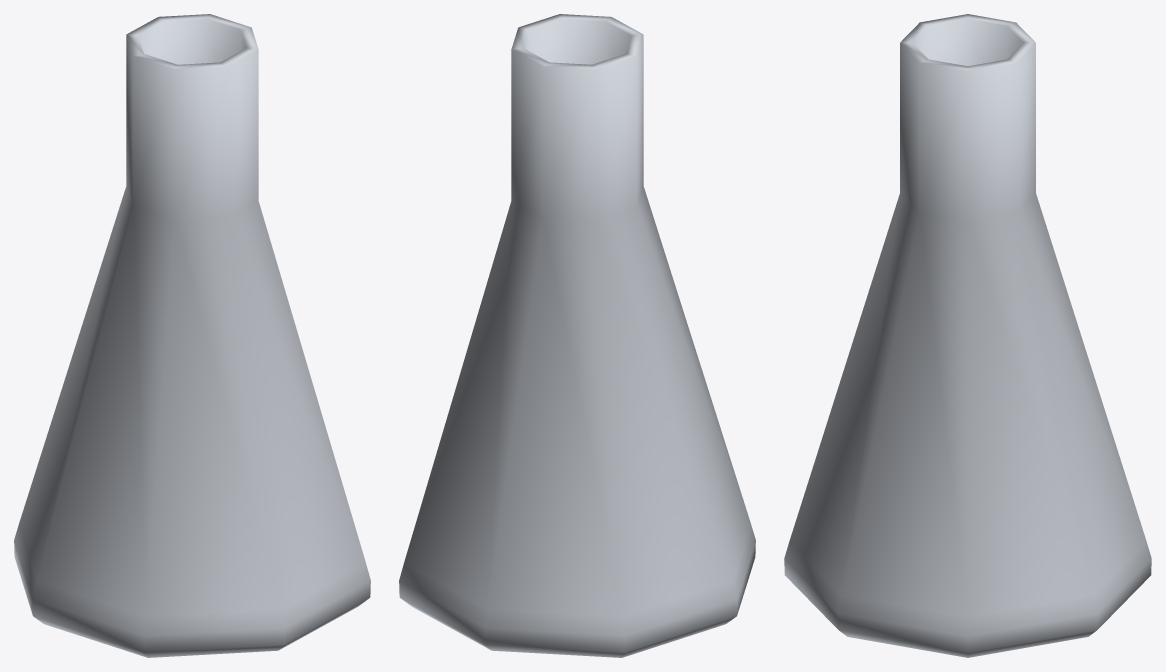
Rendered from bottle_glassware_erlenmeyer_flask_medium.glb.
3 views of the same model, side by side, from view 1: azimuth 30°, elevation 25°; view 2: azimuth 150°, elevation 25°; view 3: azimuth 270°, elevation 25° (orthographic).
Parts seen in each view (by area): view 1: bottle_glassware_erlenmeyer_flask_medium; view 2: bottle_glassware_erlenmeyer_flask_medium; view 3: bottle_glassware_erlenmeyer_flask_medium.
Part boxes in pixels (box(x1,y1,x2,y2)): bottle_glassware_erlenmeyer_flask_medium: box(14, 14, 370, 657); bottle_glassware_erlenmeyer_flask_medium: box(399, 14, 755, 657); bottle_glassware_erlenmeyer_flask_medium: box(784, 14, 1151, 657).
Bounding box in the file's own units: 11.87 × 19.44 × 11.87.
Materials: 1 (1 with a texture image).
